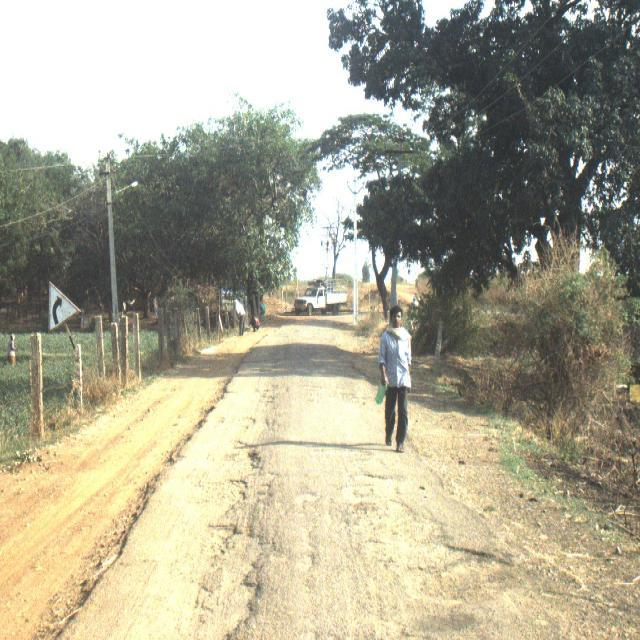pothole: (338, 475, 400, 516)
